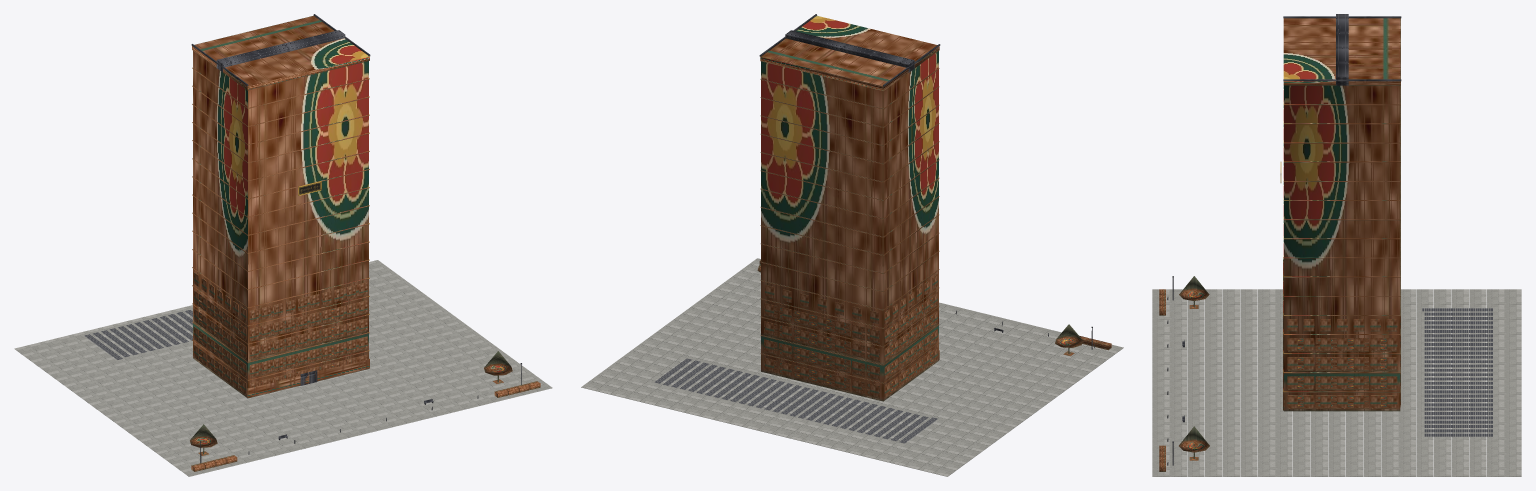
3 views of the same model, side by side, from view 1: azimuth 30°, elevation 25°; view 2: azimuth 150°, elevation 25°; view 3: azimuth 270°, elevation 25° (orthographic). The views are drawn at different scales.
Visible parts, largest first — view 1: 11680_01_06180_036_02__mass_body_facade, 11680_01_06180_036_01__plinth_ground_base, 11680_01_06180_036_05__window_sash_glass, 11680_01_06180_036_03__roof_deck_structure, 11680_01_06180_036_06__landscape_greenery, 11680_01_06180_036_03__roof_metal_ornament; view 2: 11680_01_06180_036_02__mass_body_facade, 11680_01_06180_036_01__plinth_ground_base, 11680_01_06180_036_03__roof_deck_structure, 11680_01_06180_036_03__roof_metal_ornament, 11680_01_06180_036_06__landscape_greenery; view 3: 11680_01_06180_036_01__plinth_ground_base, 11680_01_06180_036_02__mass_body_facade, 11680_01_06180_036_03__roof_deck_structure, 11680_01_06180_036_03__roof_metal_ornament, 11680_01_06180_036_06__landscape_greenery.
Boxes of the visible parts, left/top/right/bottom form: 11680_01_06180_036_02__mass_body_facade: left=192, top=15, right=369, bottom=398; 11680_01_06180_036_01__plinth_ground_base: left=14, top=260, right=552, bottom=476; 11680_01_06180_036_05__window_sash_glass: left=249, top=282, right=367, bottom=392; 11680_01_06180_036_03__roof_deck_structure: left=84, top=310, right=192, bottom=359; 11680_01_06180_036_06__landscape_greenery: left=190, top=351, right=540, bottom=471; 11680_01_06180_036_03__roof_metal_ornament: left=191, top=14, right=370, bottom=85; 11680_01_06180_036_02__mass_body_facade: left=760, top=15, right=939, bottom=401; 11680_01_06180_036_01__plinth_ground_base: left=581, top=258, right=1123, bottom=476; 11680_01_06180_036_03__roof_deck_structure: left=655, top=358, right=937, bottom=443; 11680_01_06180_036_03__roof_metal_ornament: left=759, top=14, right=940, bottom=86; 11680_01_06180_036_06__landscape_greenery: left=757, top=260, right=1111, bottom=356; 11680_01_06180_036_01__plinth_ground_base: left=1152, top=289, right=1521, bottom=476; 11680_01_06180_036_02__mass_body_facade: left=1283, top=18, right=1400, bottom=411; 11680_01_06180_036_03__roof_deck_structure: left=1422, top=308, right=1492, bottom=436; 11680_01_06180_036_03__roof_metal_ornament: left=1283, top=14, right=1401, bottom=85; 11680_01_06180_036_06__landscape_greenery: left=1159, top=276, right=1209, bottom=471.
Size of the model in its own units: 83.95 by 70.5 by 69.95.
Materials: 7 (7 with a texture image).
